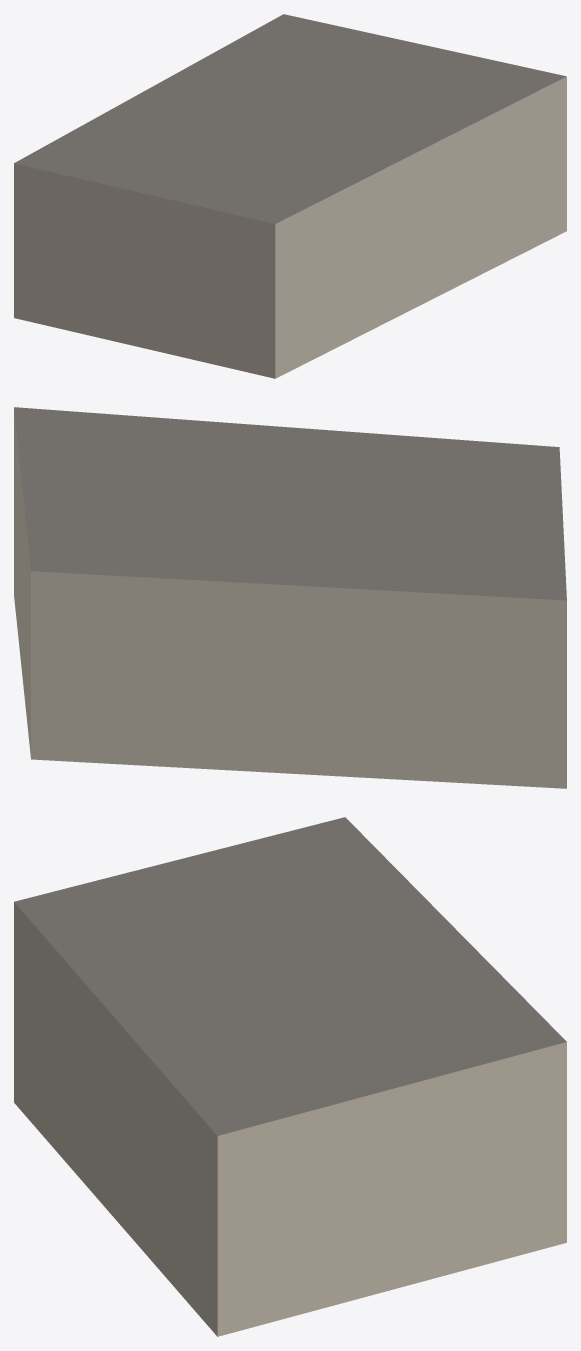
3 renders of one model, top to bottom at view 1: azimuth 30°, elevation 25°; view 2: azimuth 150°, elevation 25°; view 3: azimuth 270°, elevation 25°, orthographic. The views are drawn at different scales.
Parts seen in each view (by area): view 1: HP-w350277175; view 2: HP-w350277175; view 3: HP-w350277175.
Boxes of the visible parts, x1=… form: HP-w350277175: x1=14, y1=14, x2=566, y2=378; HP-w350277175: x1=14, y1=407, x2=566, y2=788; HP-w350277175: x1=14, y1=817, x2=566, y2=1336.
Bounding box in the file's own units: 61.31 × 18 × 44.91.
